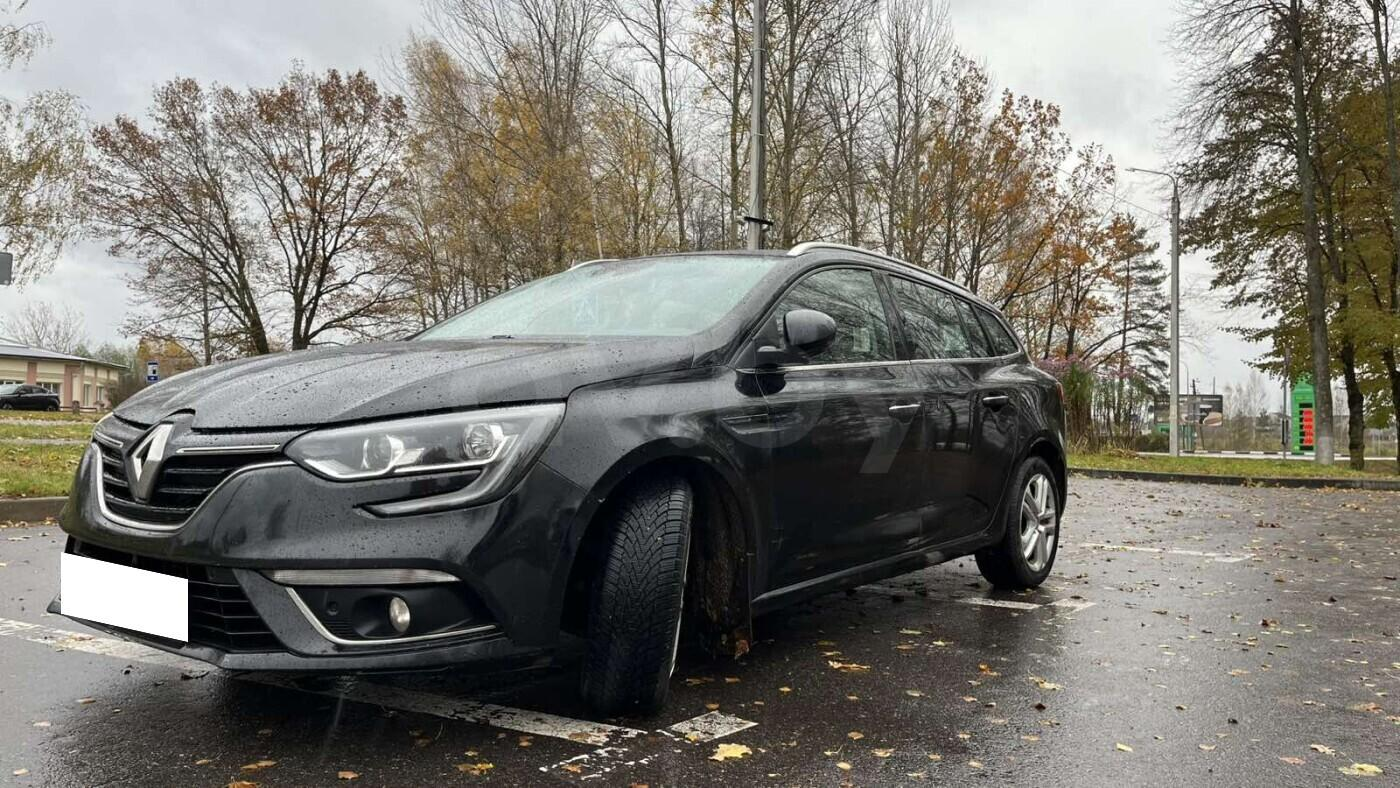Megane_2016-2020: (59, 241, 1074, 717)
